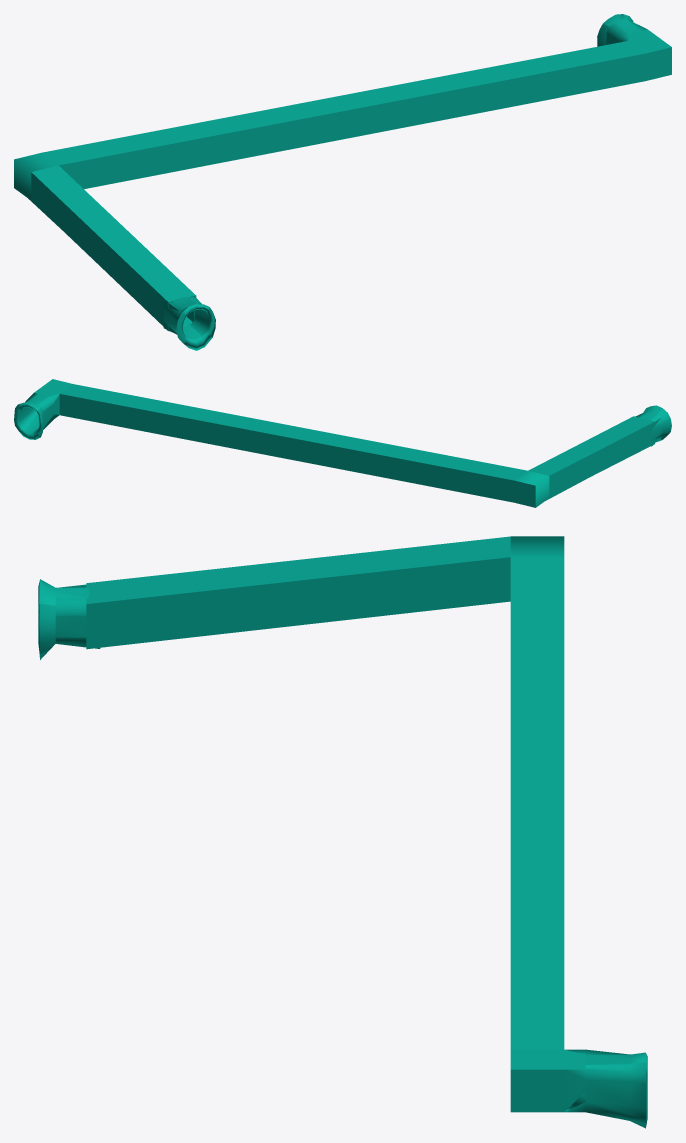
The model's file is SM_VentBathrooms_1.4.fbx.
3 renders of one model, top to bottom at view 1: azimuth 30°, elevation 25°; view 2: azimuth 150°, elevation 25°; view 3: azimuth 270°, elevation 25°, orthographic. The views are drawn at different scales.
Visible parts, largest first — view 1: SM_VentBathrooms_1_4; view 2: SM_VentBathrooms_1_4; view 3: SM_VentBathrooms_1_4.
Part boxes in pixels (x1=…): SM_VentBathrooms_1_4: x1=14, y1=14, x2=671, y2=350; SM_VentBathrooms_1_4: x1=14, y1=379, x2=671, y2=507; SM_VentBathrooms_1_4: x1=38, y1=536, x2=647, y2=1128.
Bounding box in the file's own units: 3189 × 346 × 1661.
